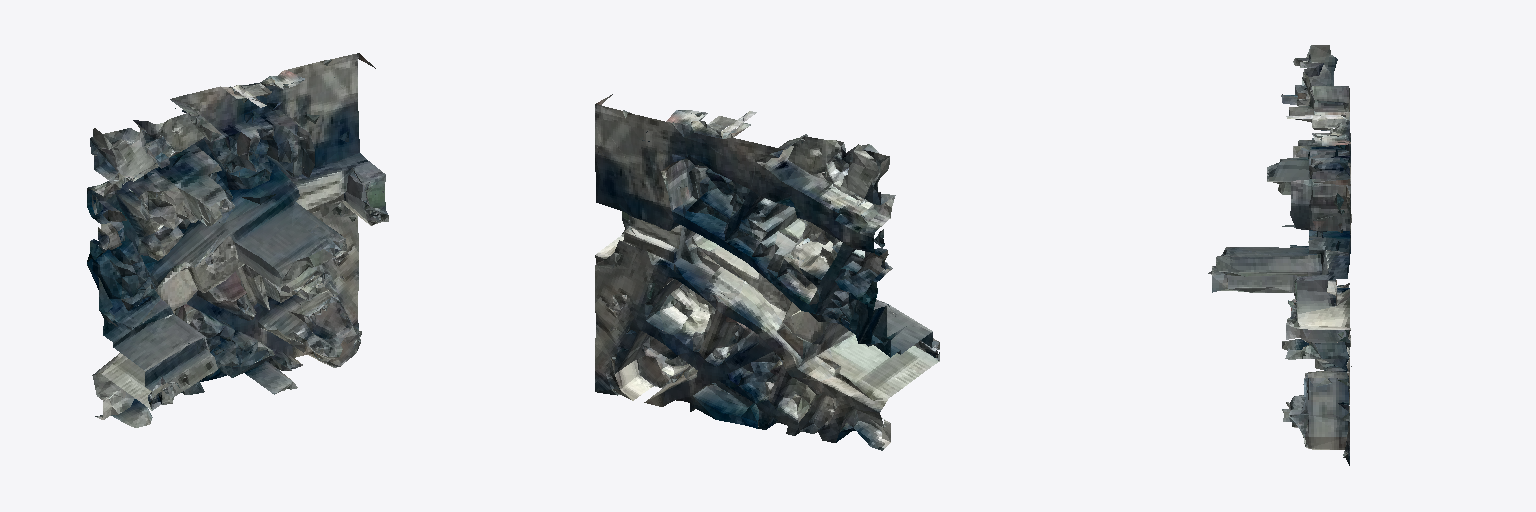
The picture shows the model from 3 angles: view 1: azimuth 30°, elevation 25°; view 2: azimuth 150°, elevation 25°; view 3: azimuth 270°, elevation 25°; orthographic projection.
Parts seen in each view (by area): view 1: Tile_173078_LD_012_018_L15.osgb__Geometry_0; view 2: Tile_173078_LD_012_018_L15.osgb__Geometry_0; view 3: Tile_173078_LD_012_018_L15.osgb__Geometry_0.
Boxes of the visible parts, <box> form: Tile_173078_LD_012_018_L15.osgb__Geometry_0: <box>87,53,388,427</box>; Tile_173078_LD_012_018_L15.osgb__Geometry_0: <box>595,94,939,450</box>; Tile_173078_LD_012_018_L15.osgb__Geometry_0: <box>1208,45,1351,465</box>.
Bounding box in the file's own units: 255 × 255 × 116.
Materials: 1 (1 with a texture image).